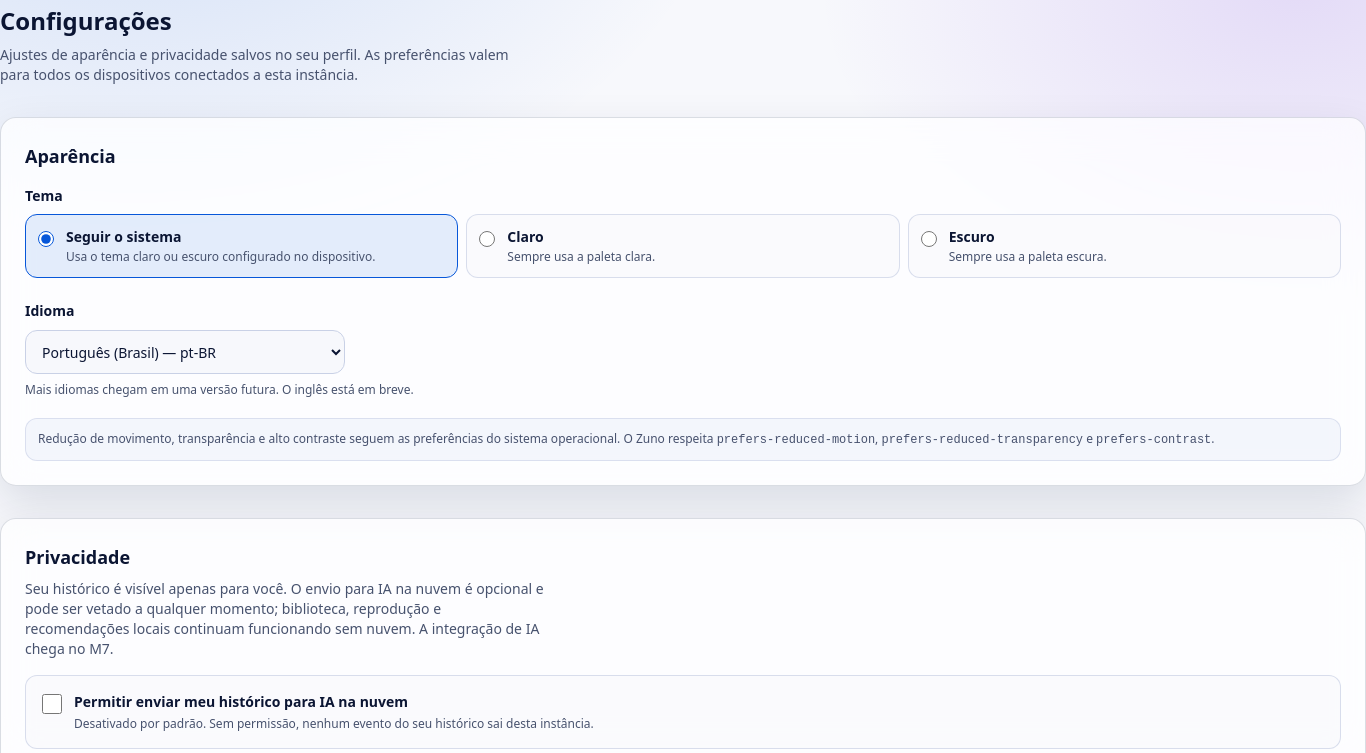
Scenario: SettingsView › salva consentimento e retenção com atualização otimista
This screenshot has width=1366, height=753.
Click the checkbox labelled "Permitir enviar meu histórico": (52, 704) [42,694,62,714]
(page scrolled)
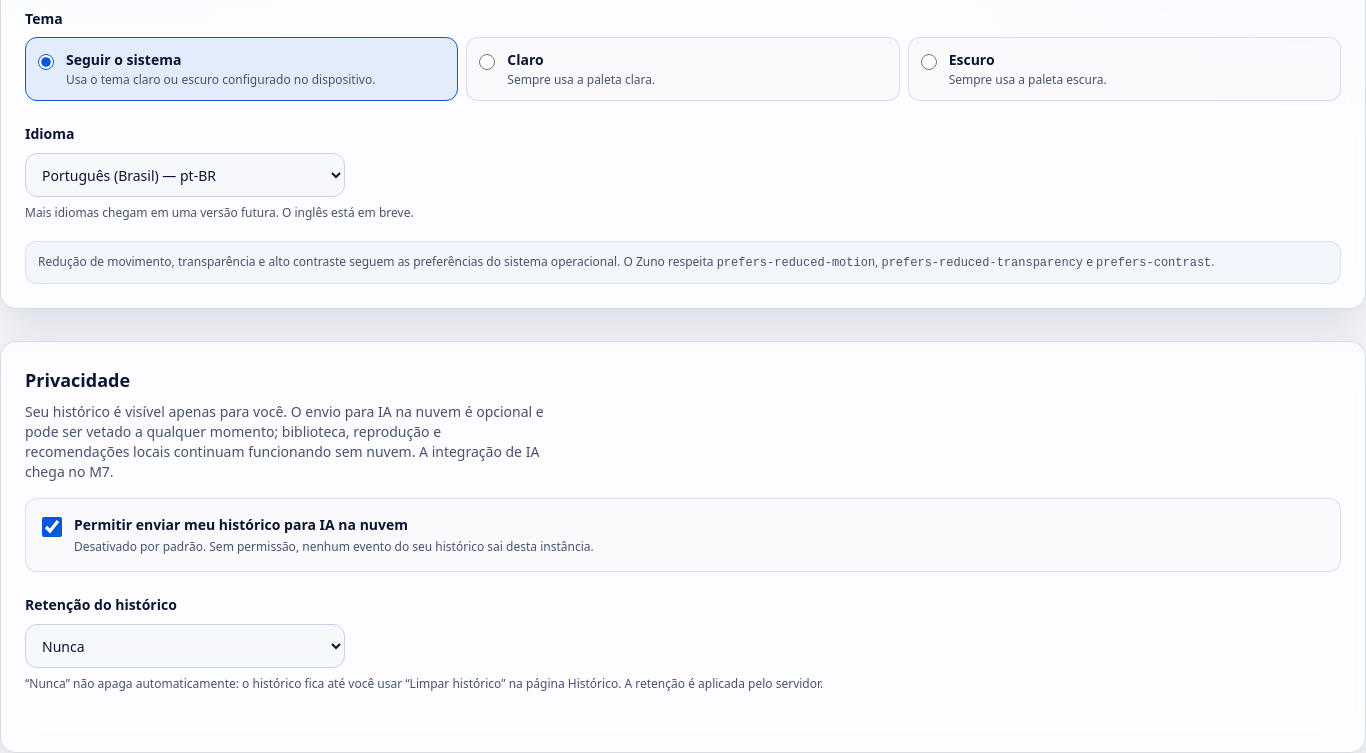
expect the checkbox labelled "Permitir enviar meu histórico" is checked: met, box [42,517,62,537]
Select "90 dias" in the dropdown labelled "Retenção do histórico": (185, 646) [25,624,345,668]
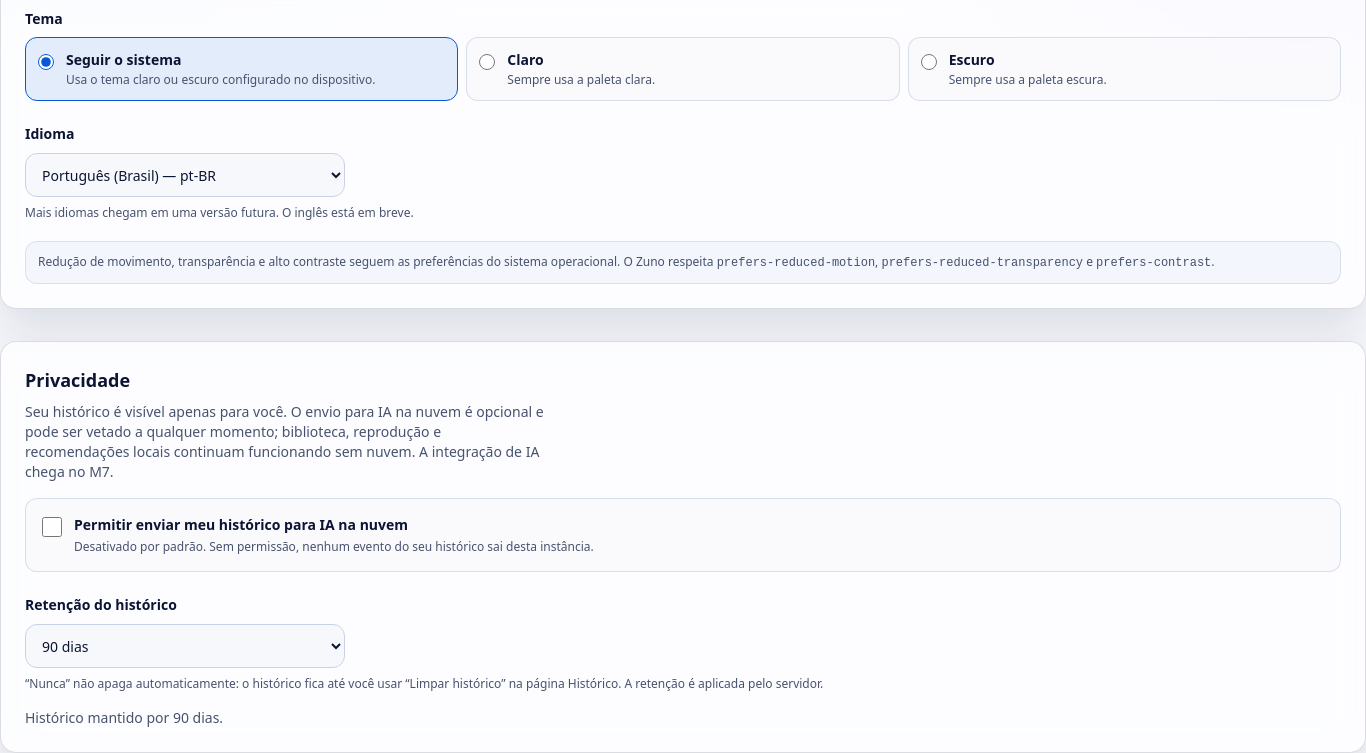
expect the text "Histórico mantido por 90 dias." is shown: met, box [25,708,223,727]
